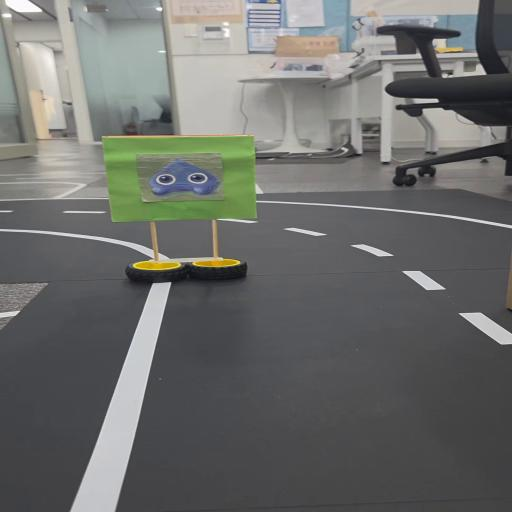Box: (81, 130, 275, 291)
